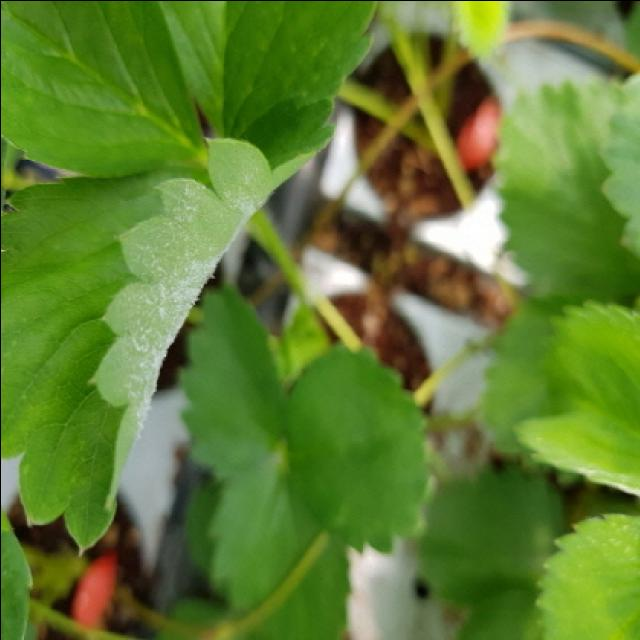Powdery Mildew Leaf: (2, 92, 336, 559)
